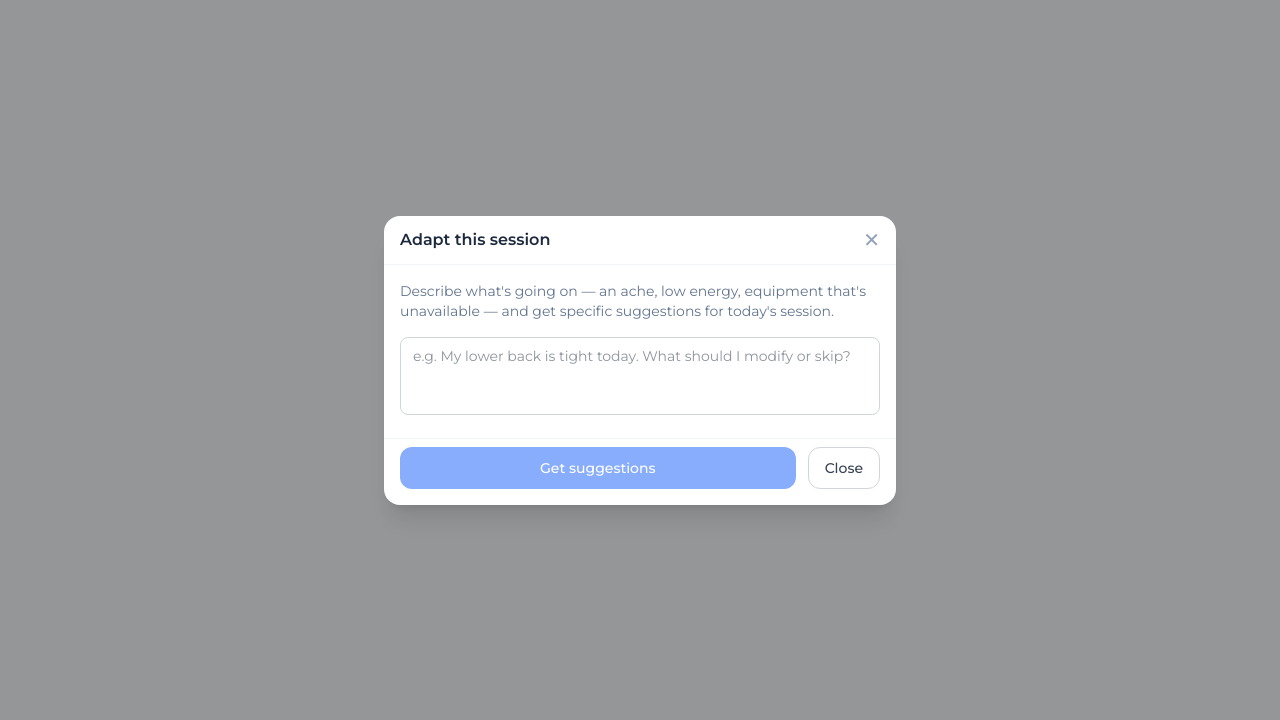
AdaptSessionModal › shows spinner while request is in flight
The image size is (1280, 720).
Step 1. Type "Low energy today" into the text box → coordinates (640, 376), box [400,336,880,414]
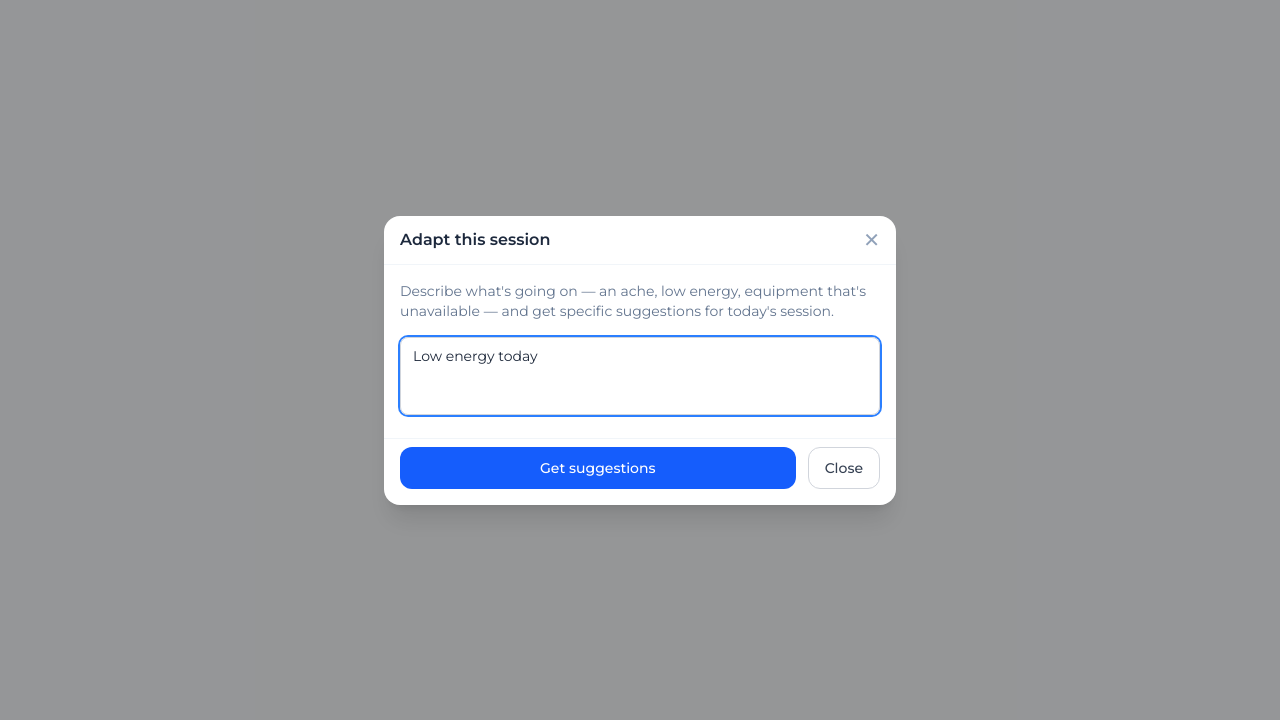
Step 2. Click the button "Get suggestions" → coordinates (598, 468), box [400,446,796,488]
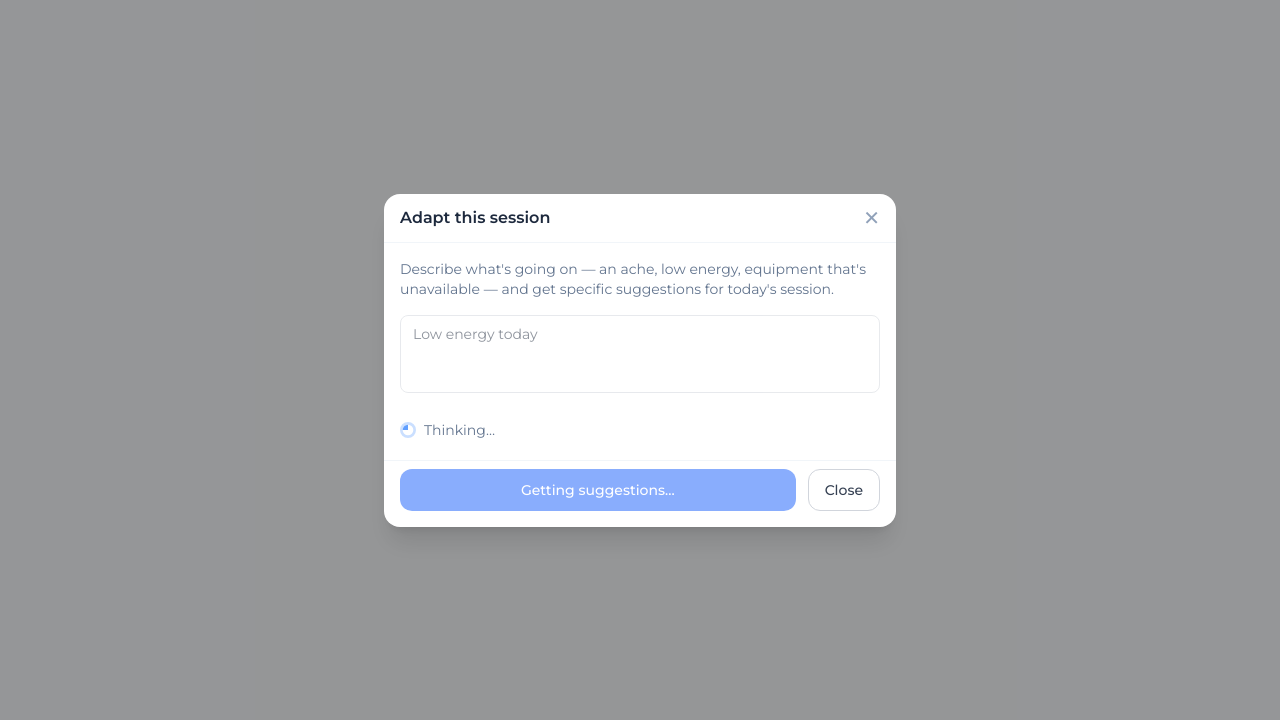
Now the button "Getting suggestions…" is shown, box [400,468,796,510]
